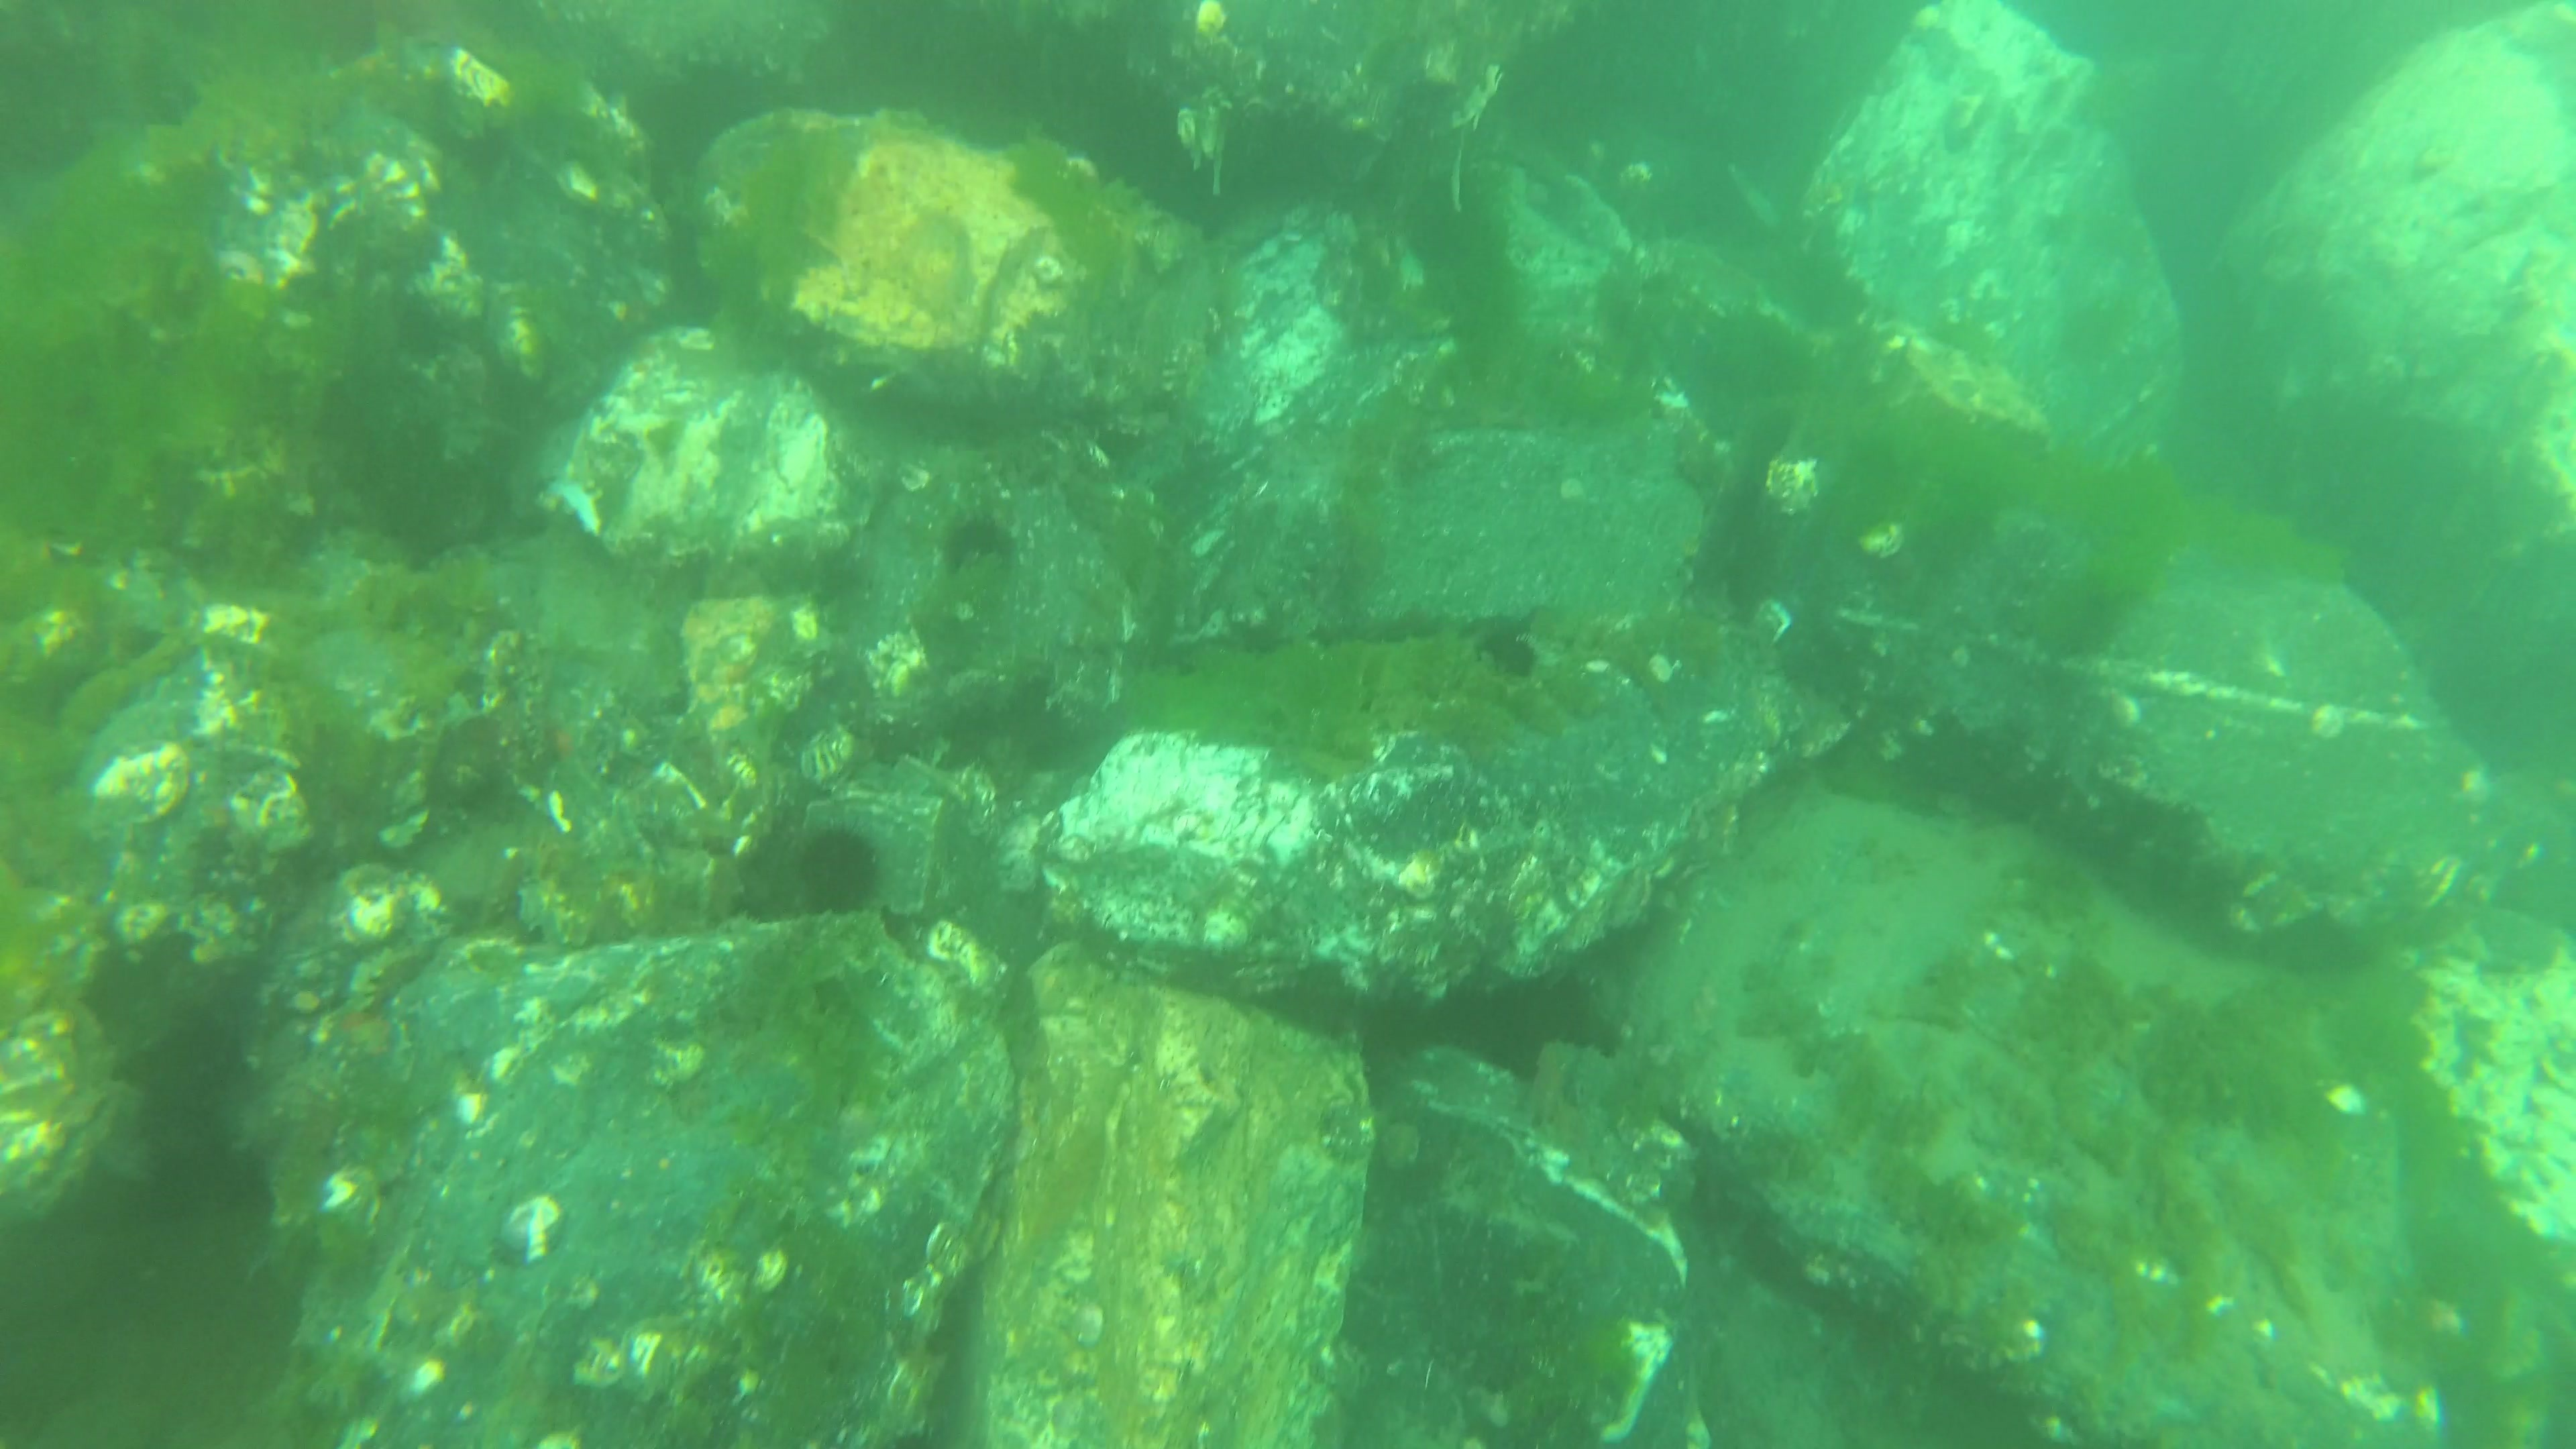echinus: (791, 828, 876, 908), (943, 518, 1021, 571), (1493, 640, 1545, 686), (1474, 617, 1527, 662)
